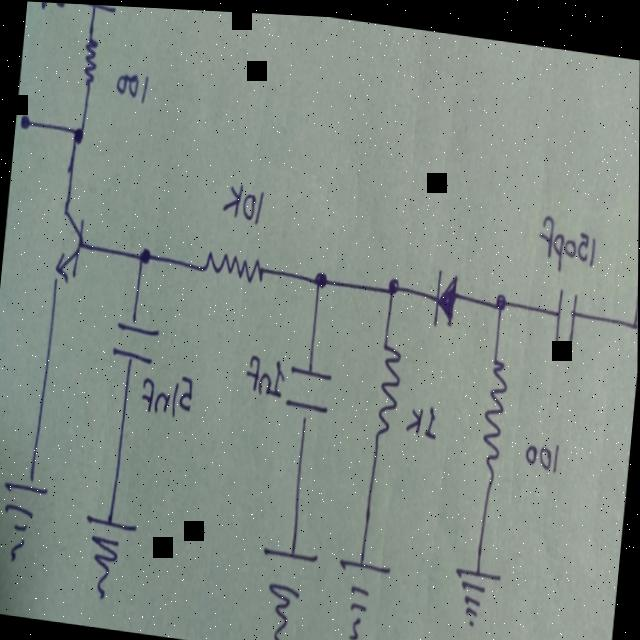capacitor: (286, 358, 334, 411), (112, 319, 161, 363), (552, 284, 582, 333)
diode: (432, 263, 461, 325)
ground: (260, 538, 317, 640), (337, 547, 387, 640), (0, 469, 46, 563), (84, 509, 131, 597), (454, 560, 498, 622)
junction: (135, 241, 156, 268), (310, 266, 332, 290), (384, 271, 404, 297), (491, 282, 509, 308), (71, 119, 86, 147), (626, 305, 638, 330)
resistor: (480, 352, 511, 461), (374, 336, 406, 436), (203, 242, 268, 280), (81, 32, 98, 86)
source: (75, 3, 113, 11)
terminal: (18, 108, 34, 133), (635, 173, 639, 206)
text: (541, 203, 599, 262), (140, 363, 196, 418), (245, 349, 287, 398), (222, 177, 265, 222), (523, 432, 563, 469), (117, 63, 150, 103), (407, 399, 438, 432), (37, 2, 66, 10)
transistor: (55, 204, 85, 281)
